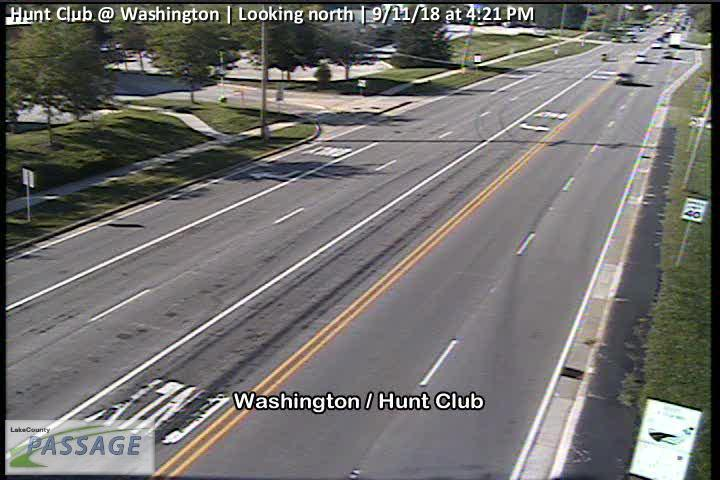Sedan: (615, 72, 633, 85), (634, 54, 647, 63)
